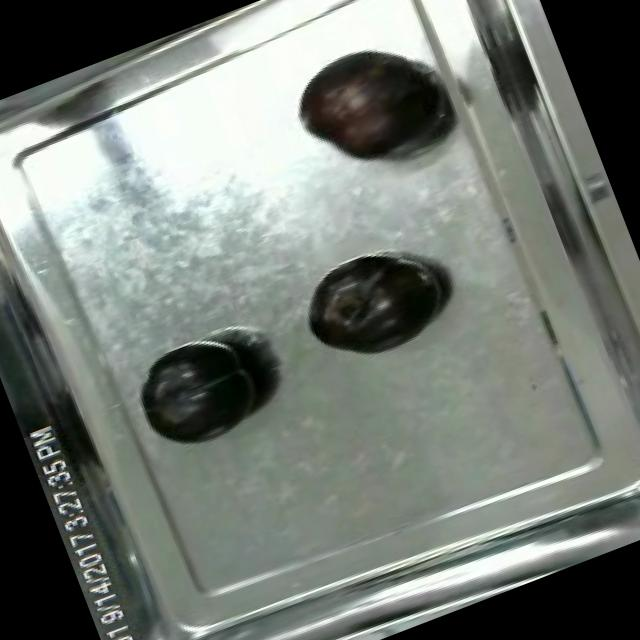Fruit: (277, 26, 452, 188), (291, 242, 454, 380), (124, 322, 278, 462)
